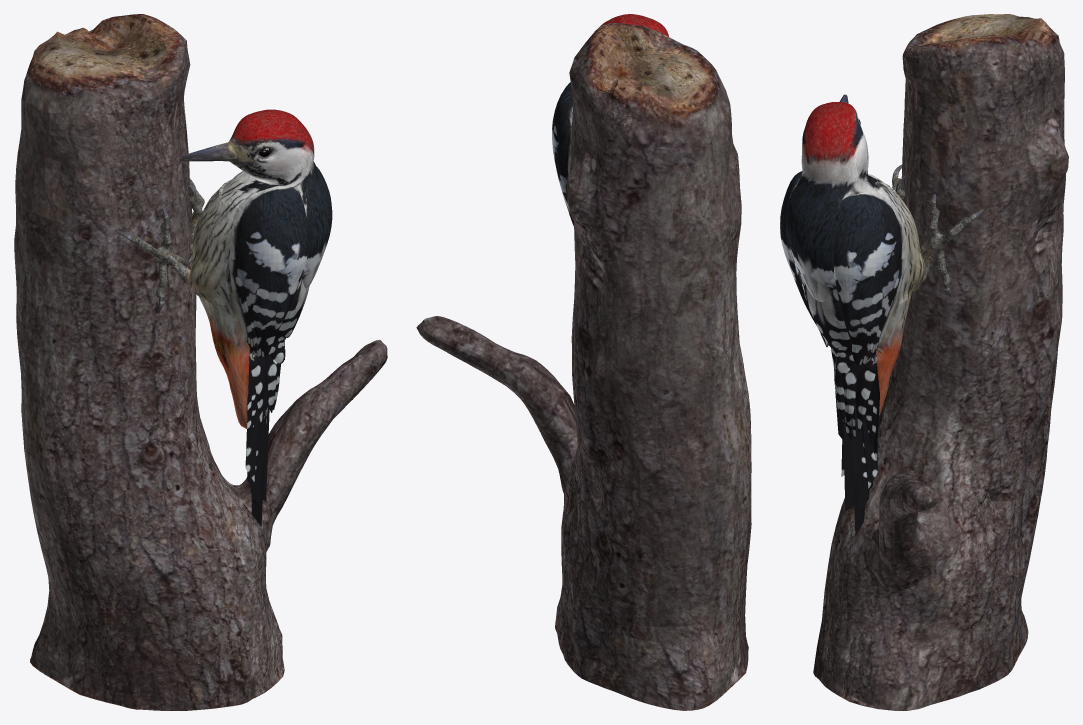
3 views of the same model, side by side, from view 1: azimuth 30°, elevation 25°; view 2: azimuth 150°, elevation 25°; view 3: azimuth 270°, elevation 25° (orthographic). The views are drawn at different scales.
Visible parts, largest first — view 1: 3c798cff_65f5_4638_bf09_55c17a8cbc2a, 2970b6b2_3b6b_4449_bbdd_357aca01b715; view 2: 3c798cff_65f5_4638_bf09_55c17a8cbc2a, 2970b6b2_3b6b_4449_bbdd_357aca01b715; view 3: 3c798cff_65f5_4638_bf09_55c17a8cbc2a, 2970b6b2_3b6b_4449_bbdd_357aca01b715.
Part boxes in pixels (left/top/right/bottom): 3c798cff_65f5_4638_bf09_55c17a8cbc2a: left=14, top=14, right=387, bottom=710; 2970b6b2_3b6b_4449_bbdd_357aca01b715: left=114, top=109, right=332, bottom=526; 3c798cff_65f5_4638_bf09_55c17a8cbc2a: left=416, top=23, right=751, bottom=710; 2970b6b2_3b6b_4449_bbdd_357aca01b715: left=552, top=14, right=668, bottom=226; 3c798cff_65f5_4638_bf09_55c17a8cbc2a: left=813, top=14, right=1068, bottom=710; 2970b6b2_3b6b_4449_bbdd_357aca01b715: left=780, top=94, right=983, bottom=535.
Bounding box in the file's own units: 13.75 × 24.37 × 10.06.
2 materials, 2 textured.
